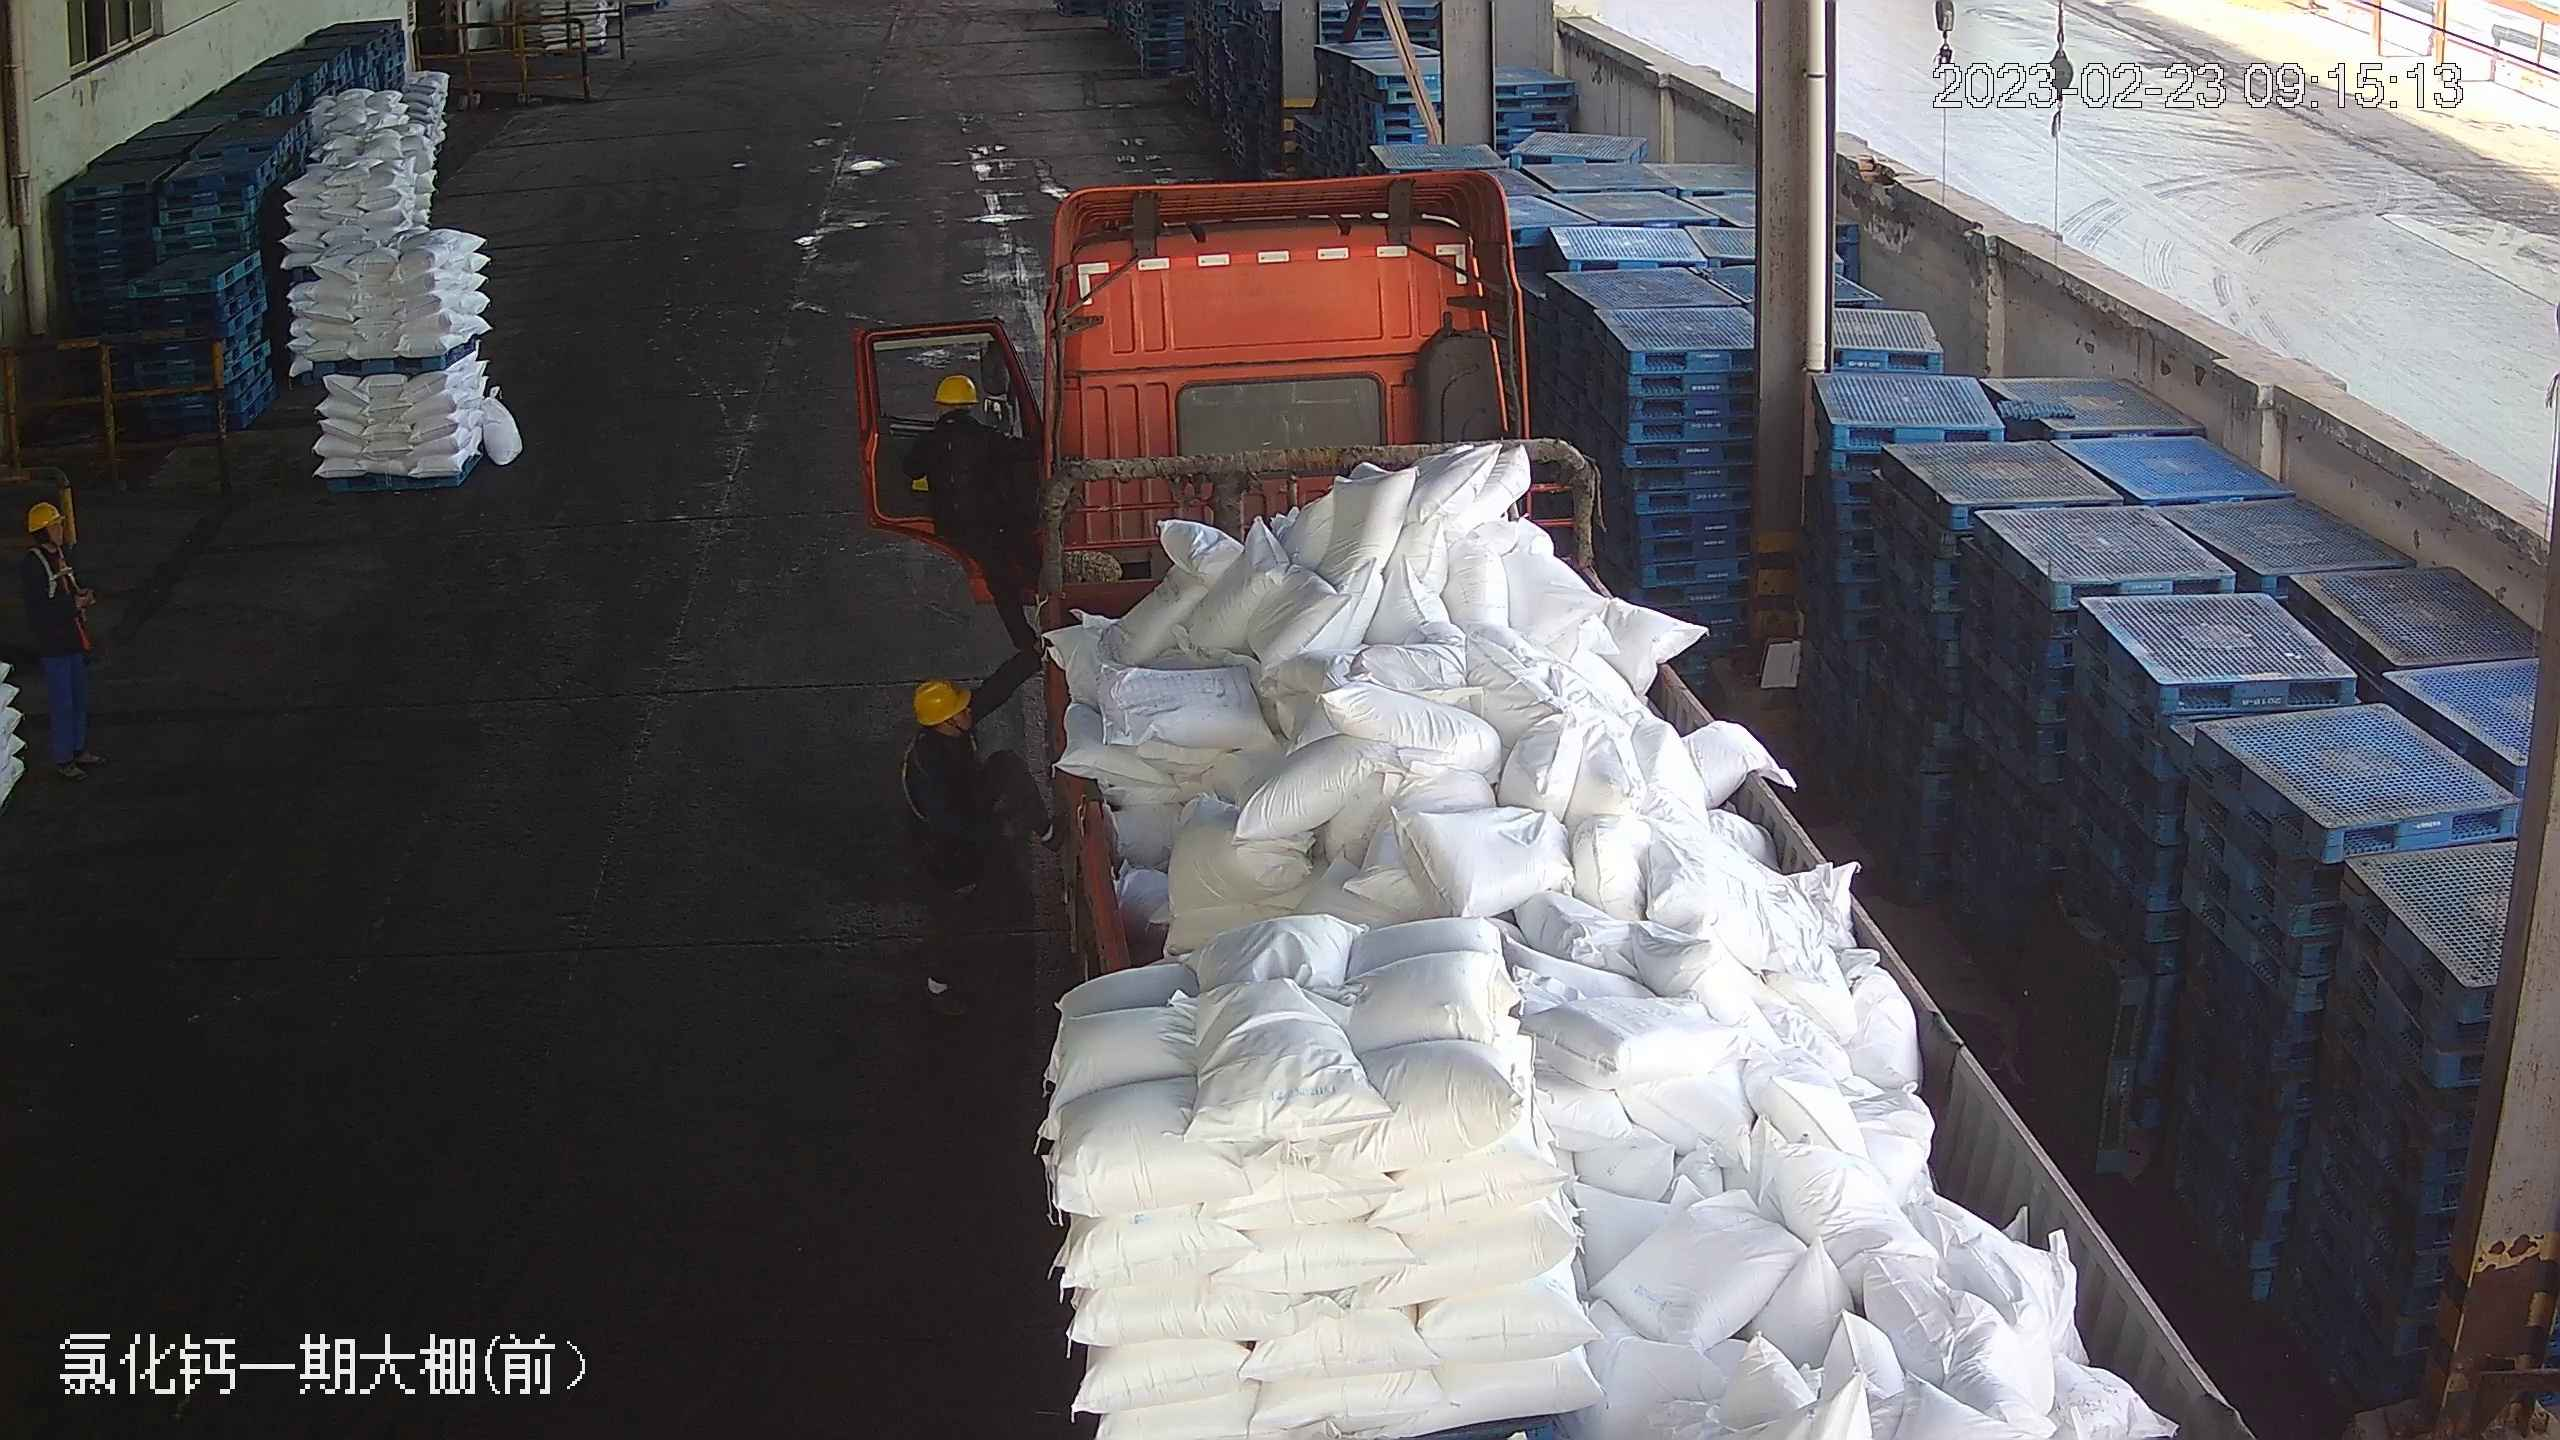belt: (890, 724, 938, 819), (25, 542, 87, 605)
head: (900, 676, 993, 788), (920, 372, 1016, 458), (11, 501, 87, 591)
helmet: (912, 676, 973, 726), (930, 371, 979, 405), (22, 499, 67, 534)
people: (898, 670, 1039, 1019), (907, 368, 1049, 653), (14, 497, 110, 779)
truck: (865, 170, 2262, 1436)
